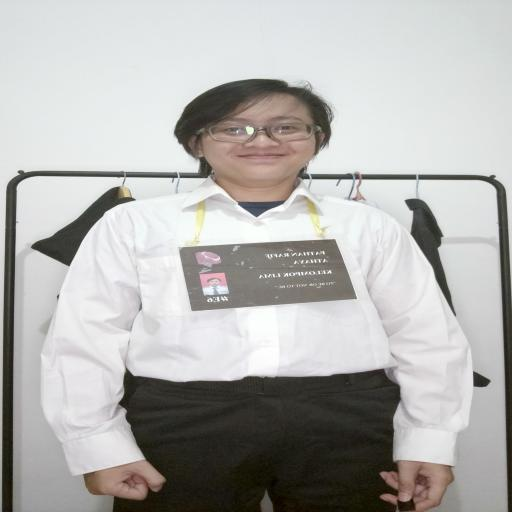celana_benar: (113, 392, 440, 512)
kemeja_benar: (62, 202, 458, 382)
nametag_ada: (160, 214, 373, 317)
sabuk_ada: (124, 372, 406, 396)
